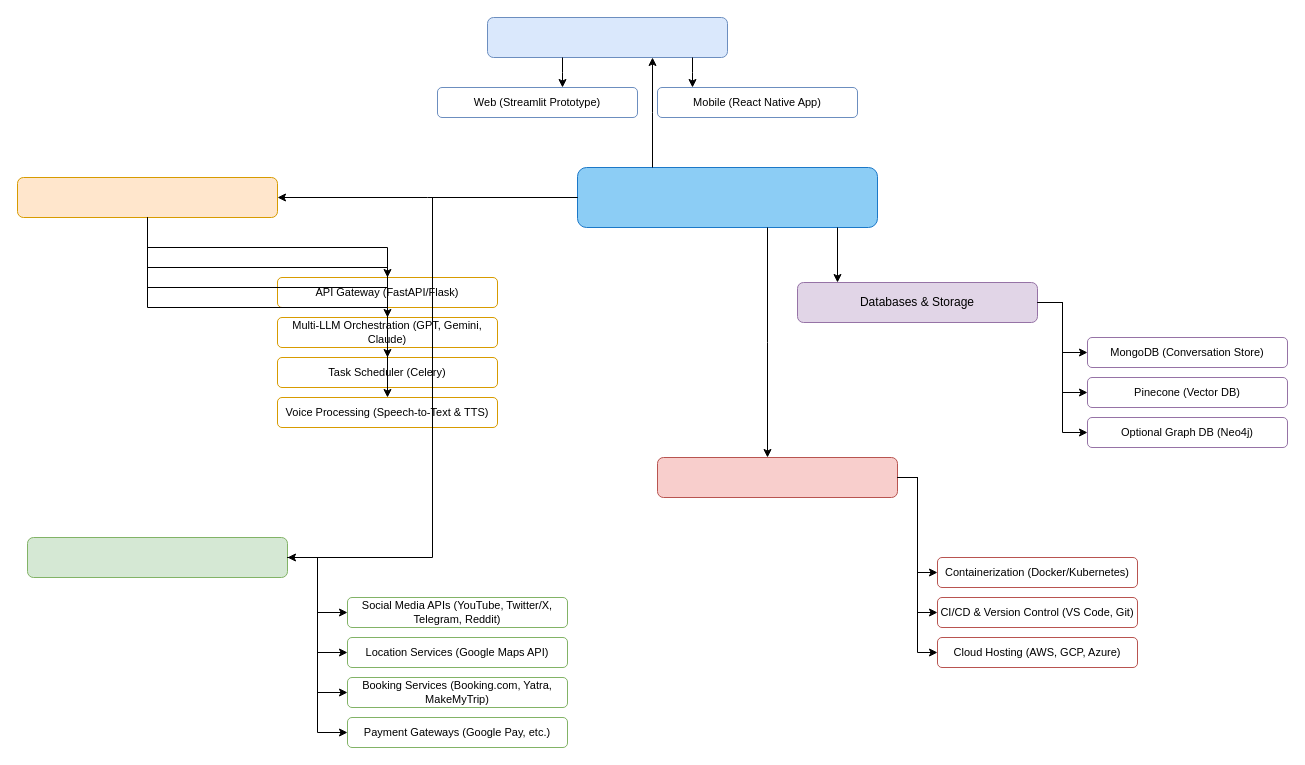
Image size: 1305x765. Some labels were removed from this diagram. Here are the shapes that lost their labels. From the top down, the centre of each, then its label:
At (607,37): "User Interfaces".
At (147,197): "Backend REST API & Core Services".
At (727,197): "AI Companion Agent Architecture".
At (777,477): "Infrastructure & DevOps".
At (157,557): "External Integrations".
